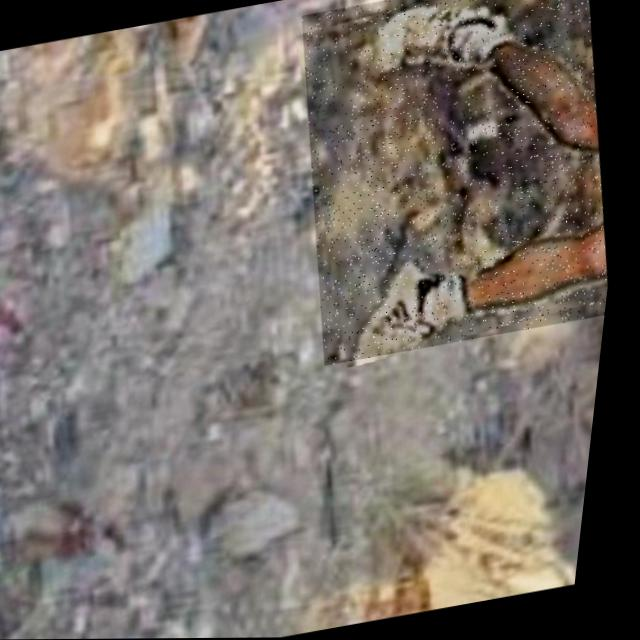Person in Rubble: (270, 0, 640, 366)
